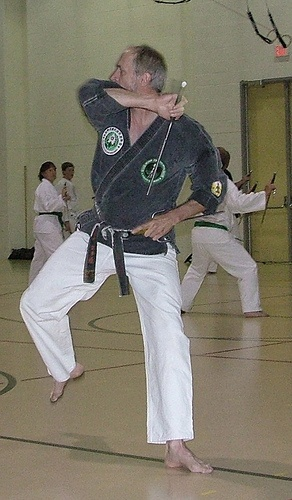head: (111, 45, 168, 99), (35, 160, 59, 186), (59, 160, 78, 180)
person: (19, 41, 231, 477), (177, 148, 276, 317), (25, 158, 69, 287), (55, 158, 78, 235)
